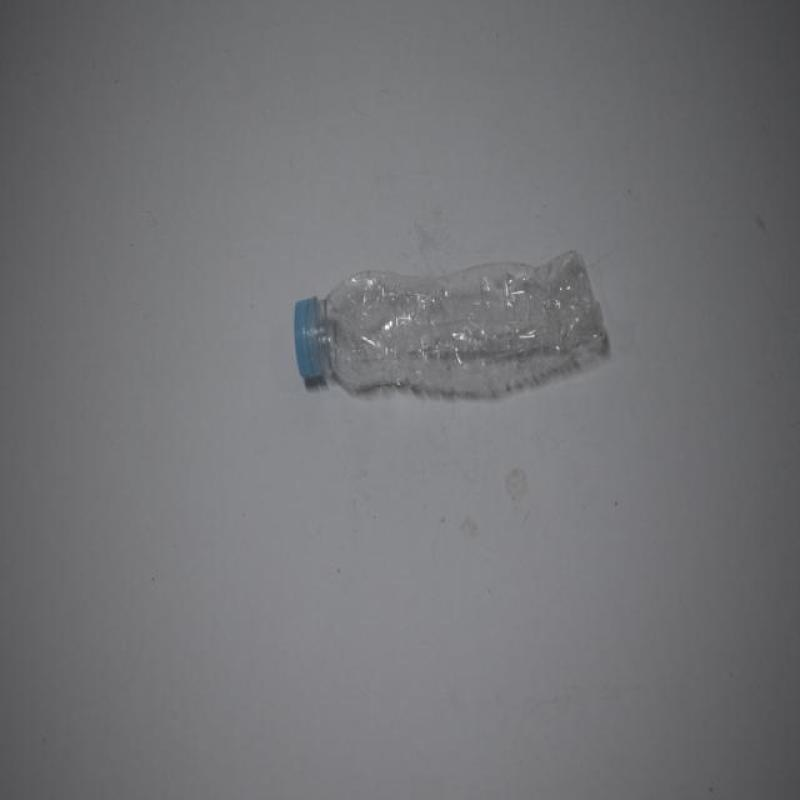botella: (294, 244, 612, 406)
